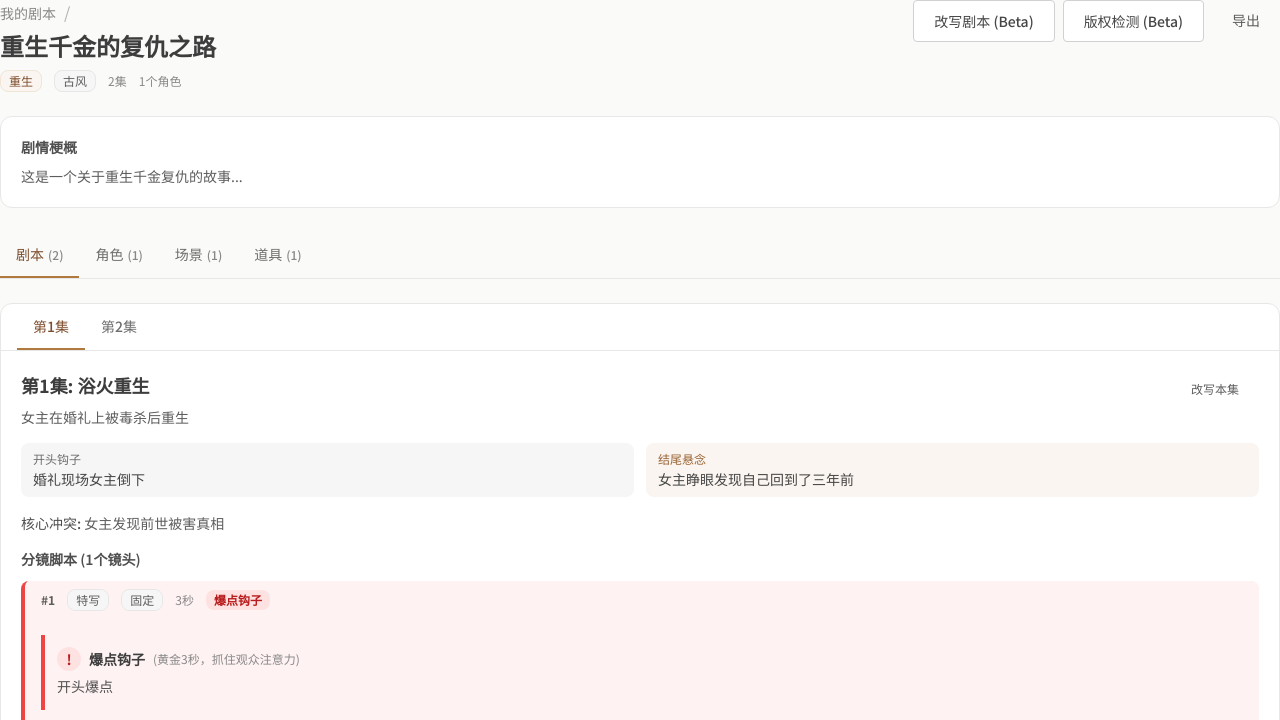
Scenario: ScriptViewerPage › switches to props tab
Expected: the heading "重生千金的复仇之路" is shown, x1=0 y1=30 x2=216 y2=62
Click the button "道具(1)": (278, 255) x1=238 y1=232 x2=318 y2=278
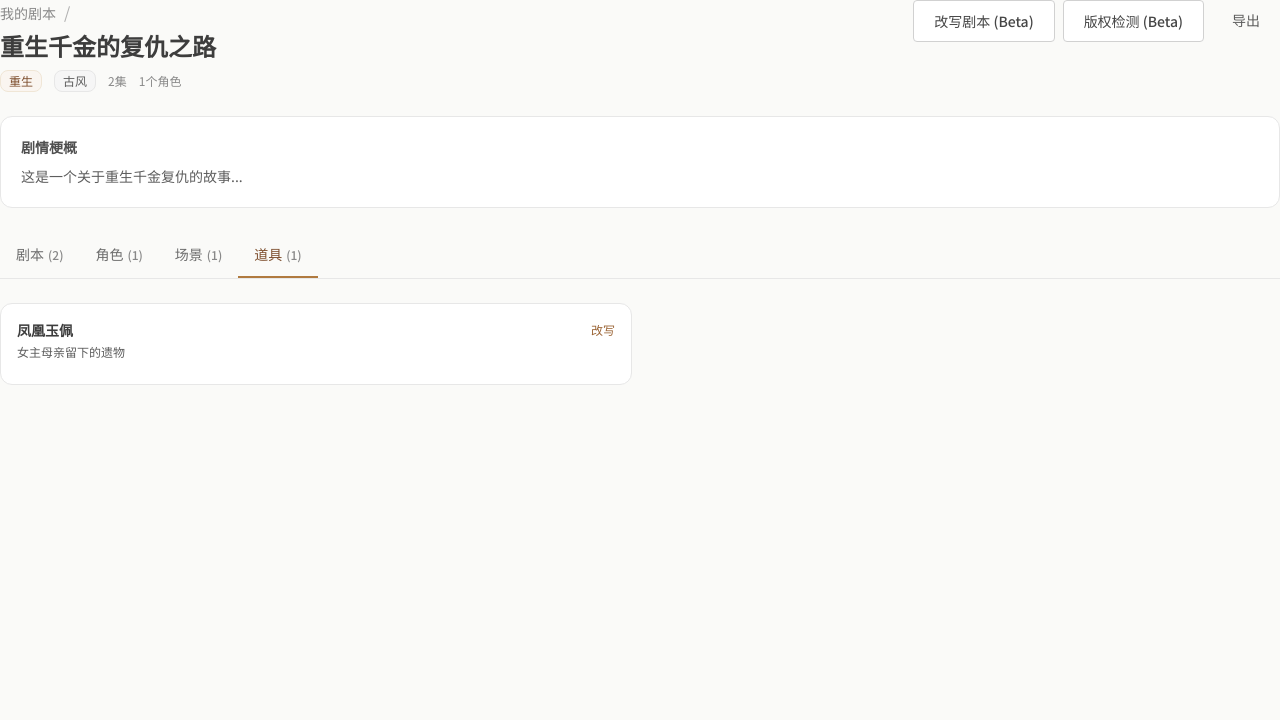
Result: the heading "凤凰玉佩" is shown at x1=17 y1=320 x2=73 y2=340
